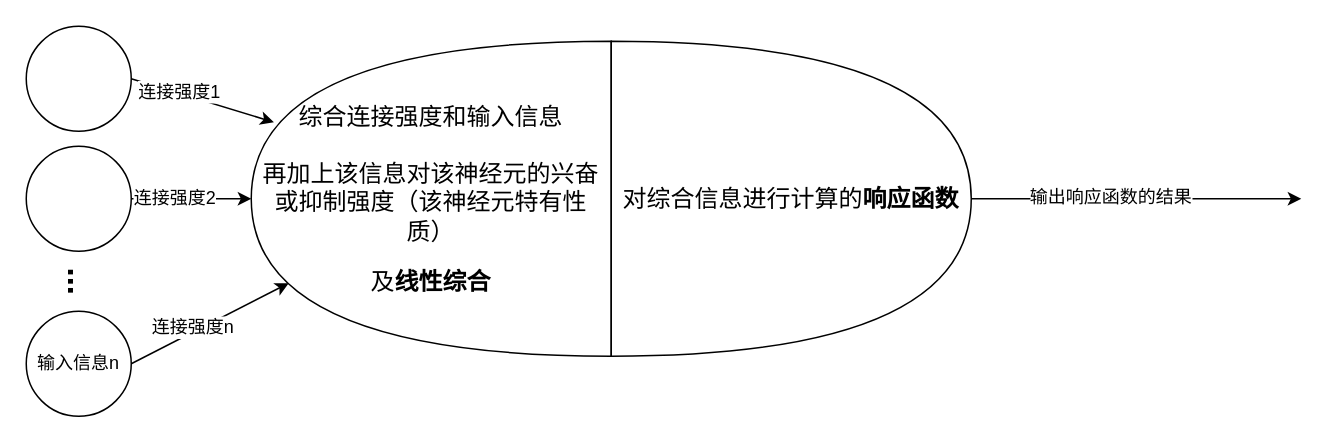
Image size: 1340x443. Some labels were removed from this diagram. The centre of each missing label's shape, as x and y in pixels:
"输入信息1" belongs at point (78, 78).
"输入信息2" belongs at point (78, 198).
